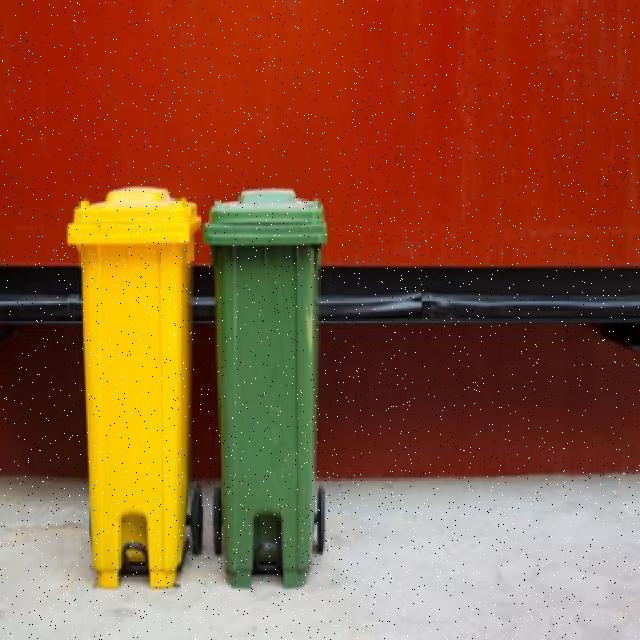garbage container: (64, 172, 207, 606), (203, 182, 342, 613)
